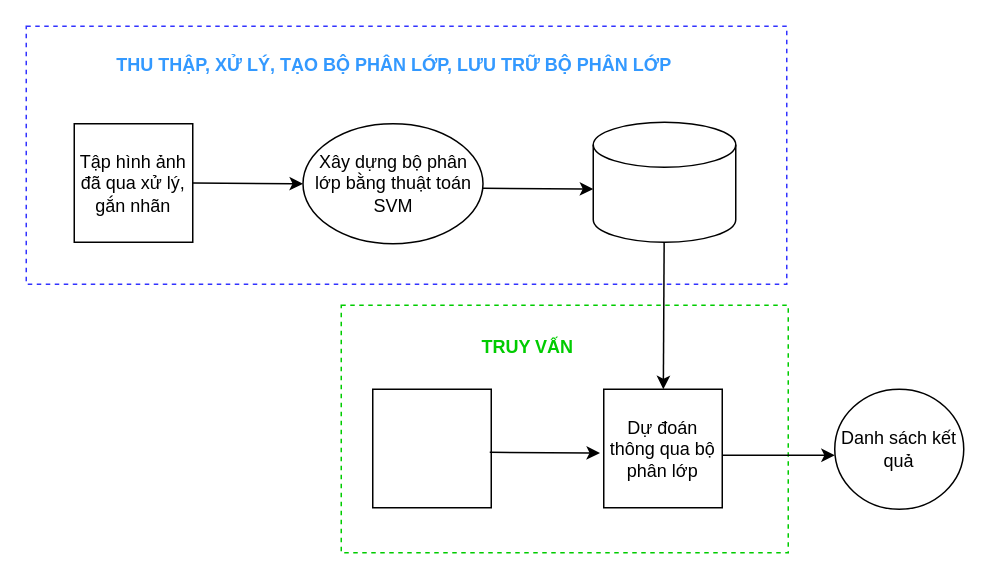
This 990x579 diagram has some shape labels left out. Here are the shapes that lost their labels. From the top down, the centre of each, then its label:
pixel 664 181: Bộ phân lớp
pixel 431 448: Hình ảnh đầu vào
